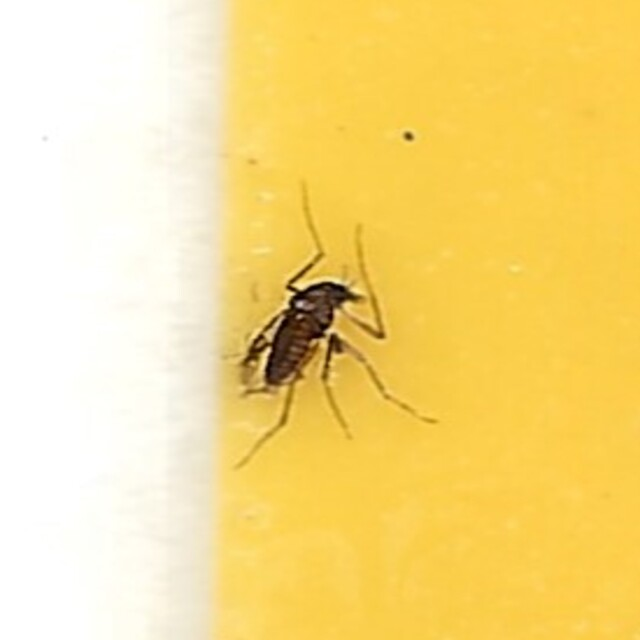Nematocera: (233, 196, 407, 444)
